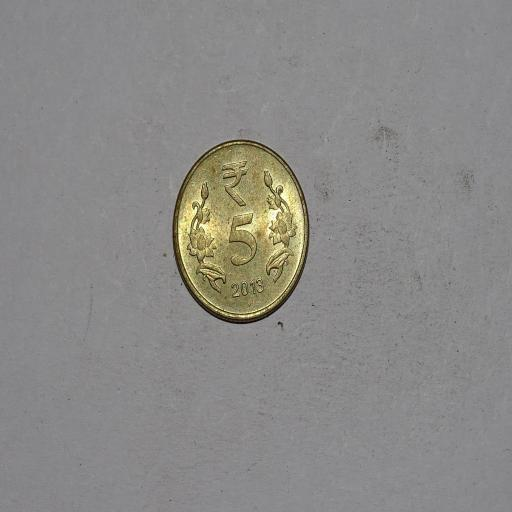rupee5: (167, 140, 312, 334)
